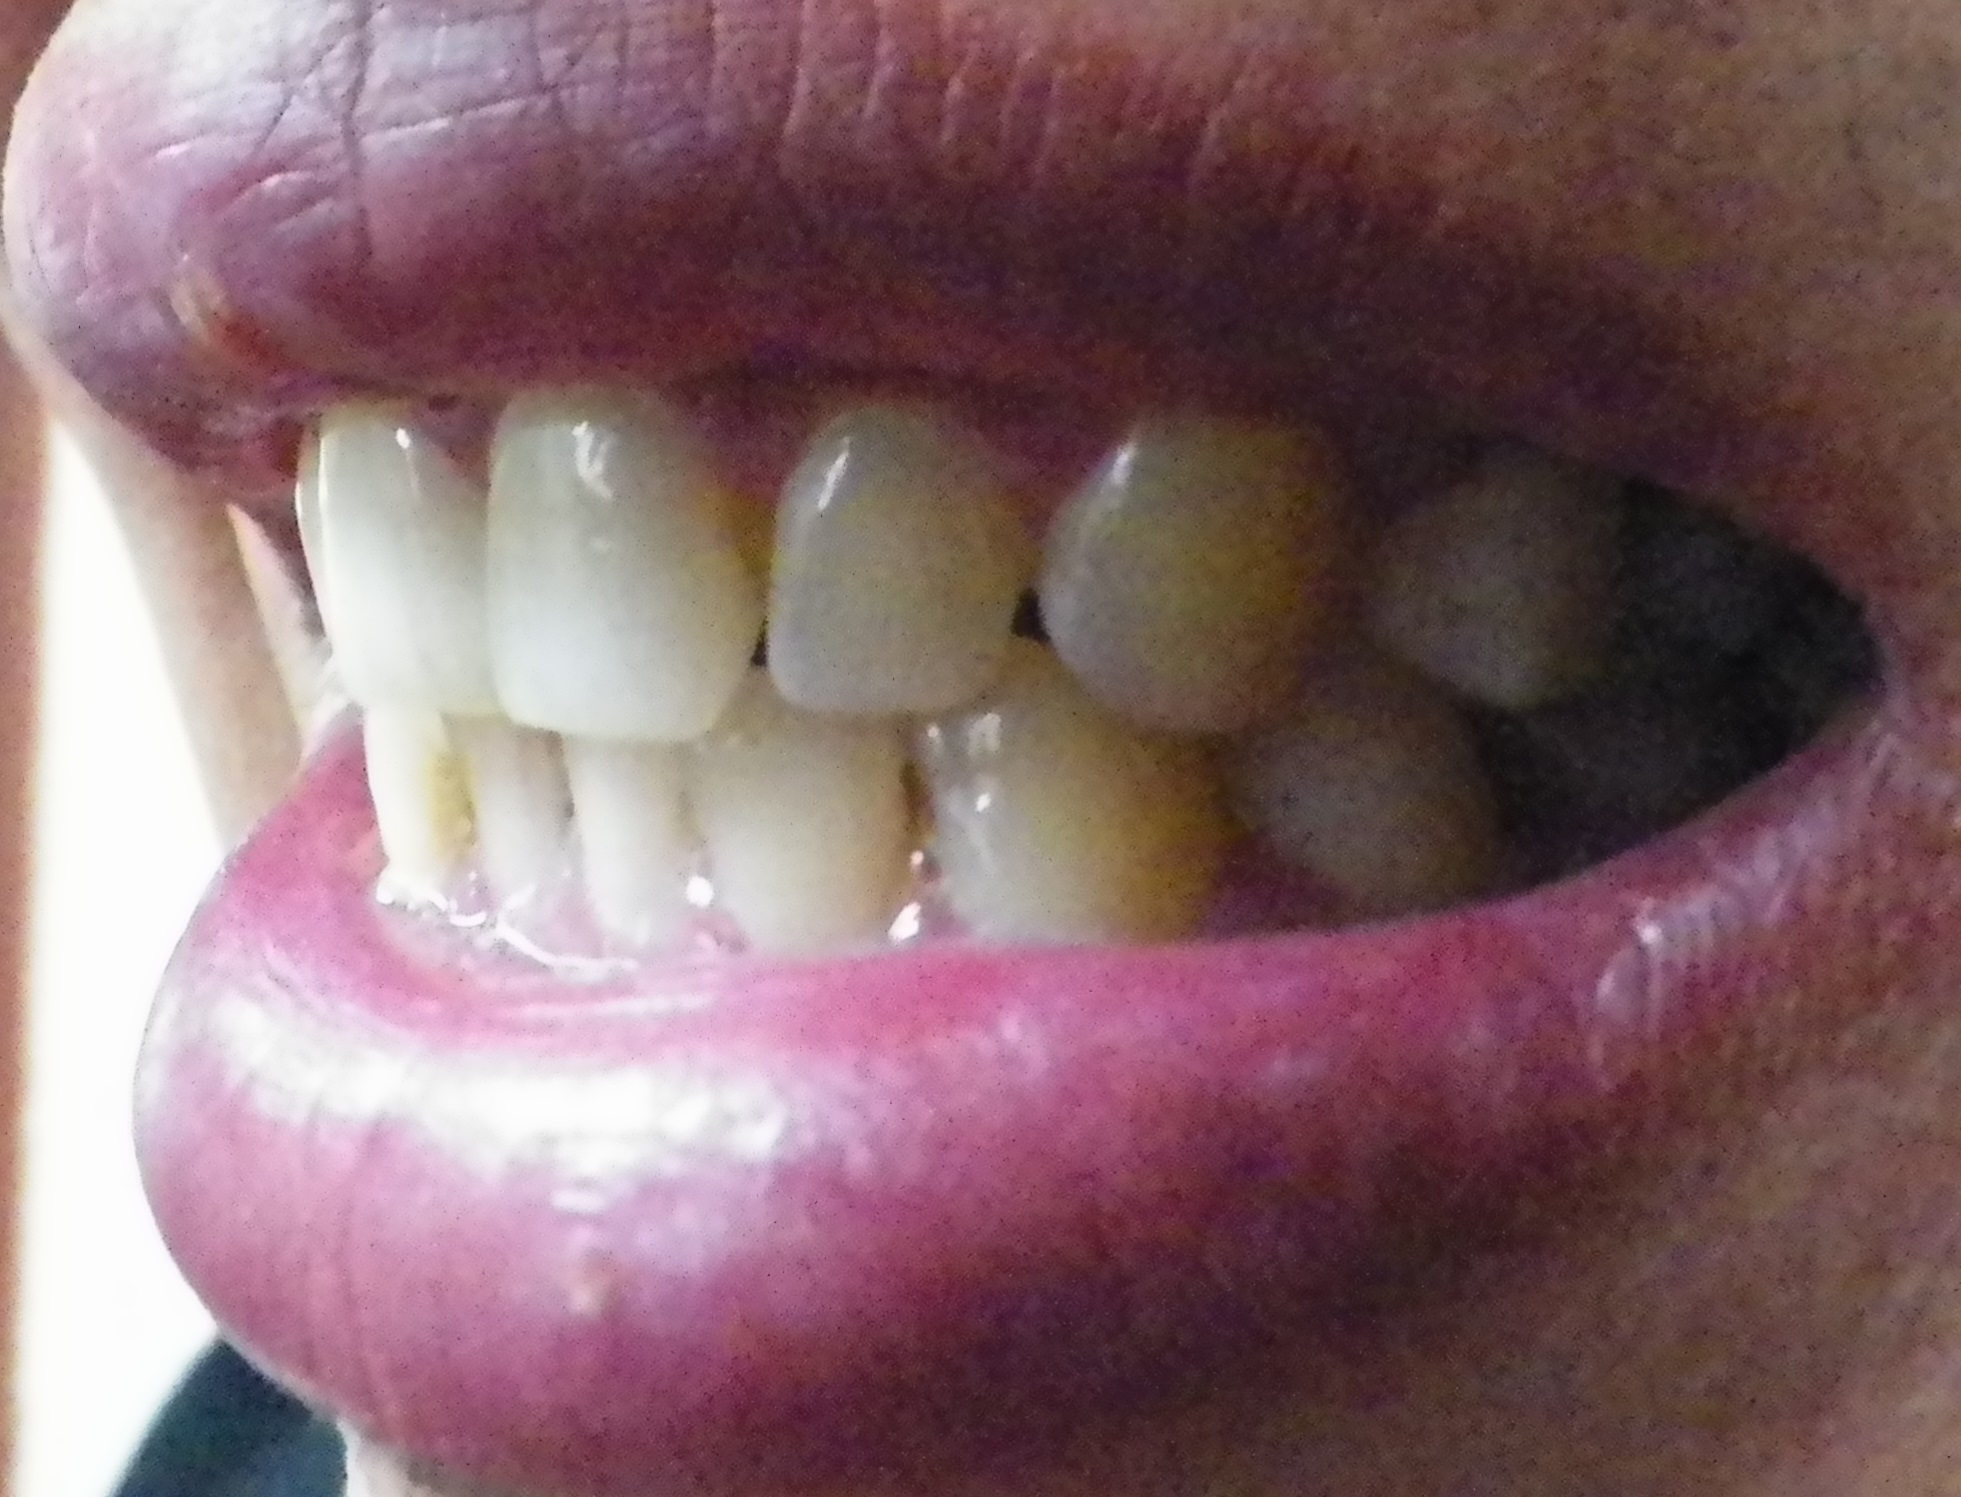boca: (288, 403, 1720, 961)
